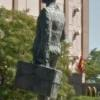Statue: (26, 2, 80, 76)
